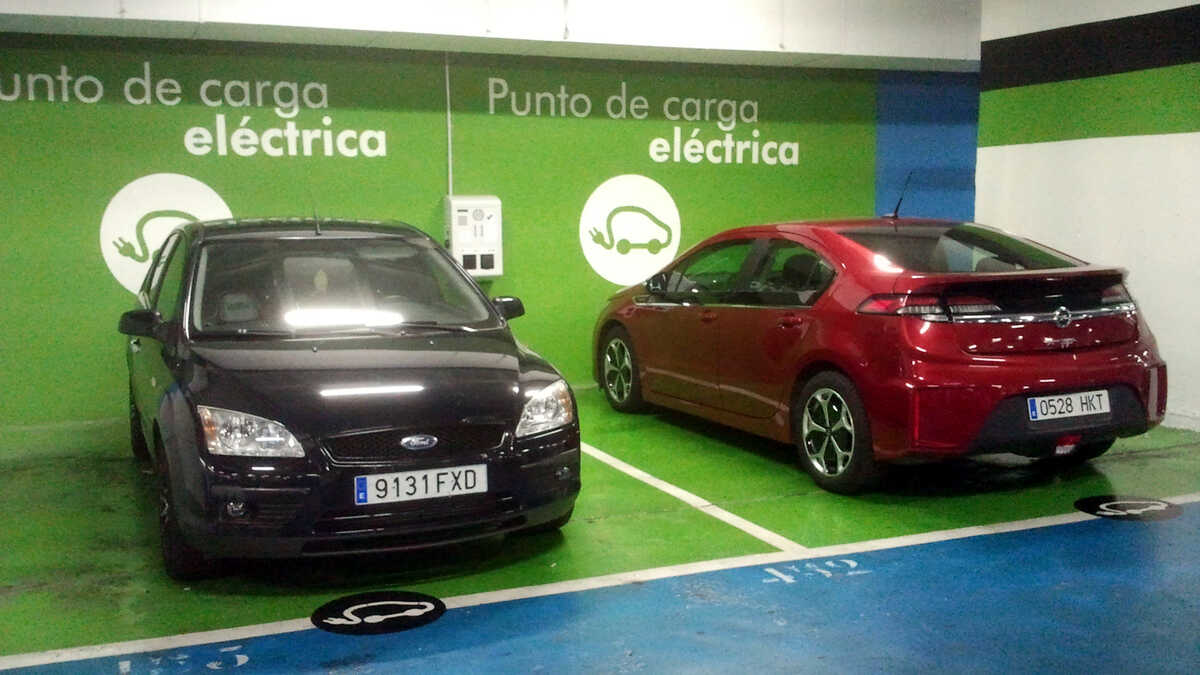car: (94, 216, 593, 572), (593, 195, 1176, 497)
